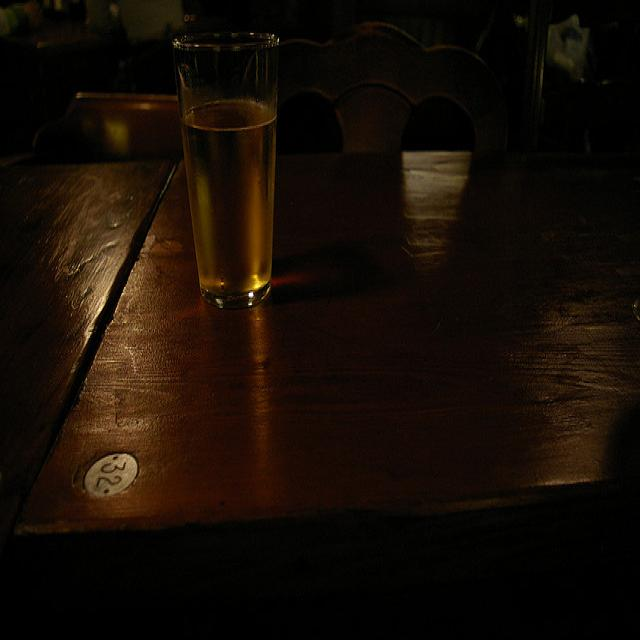Cup: (170, 17, 300, 333)
Table: (0, 90, 640, 614)
